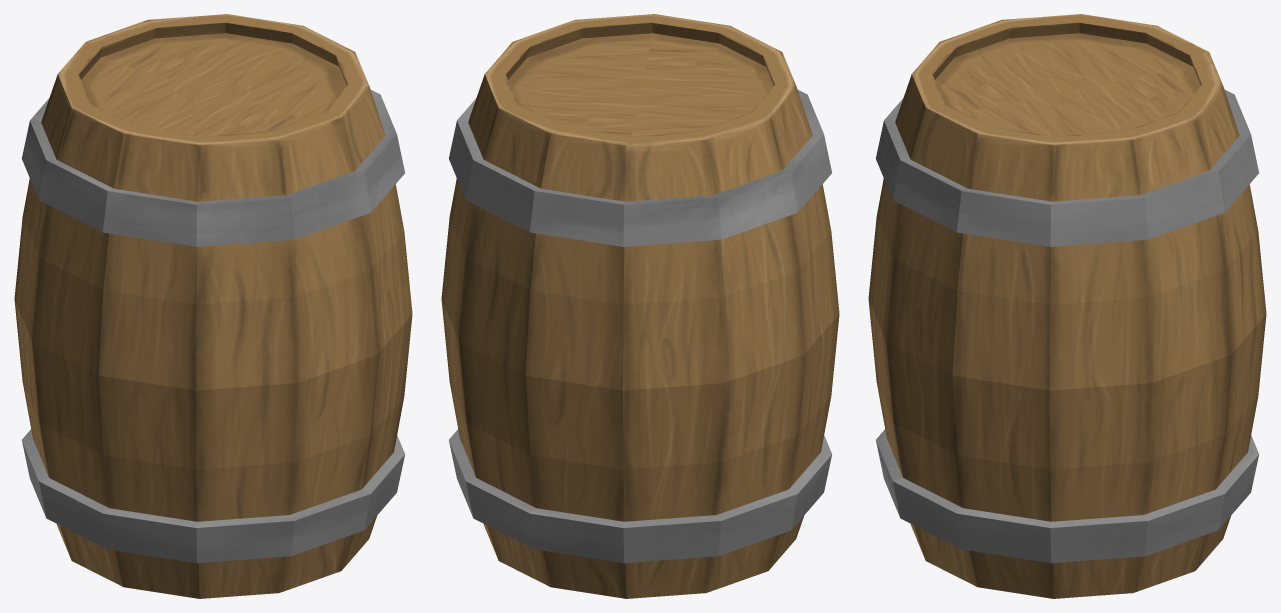
File: Barril 1.fbx
The picture shows the model from 3 angles, left to right: view 1: azimuth 30°, elevation 25°; view 2: azimuth 150°, elevation 25°; view 3: azimuth 270°, elevation 25°; orthographic projection.
Parts seen in each view (by area): view 1: Barril; view 2: Barril; view 3: Barril.
Boxes of the visible parts, x1,y1,x2,y2 form: Barril: (14,14,412,598); Barril: (441,14,839,598); Barril: (868,14,1266,598).
Bounding box in the file's own units: 185 × 232 × 185.
